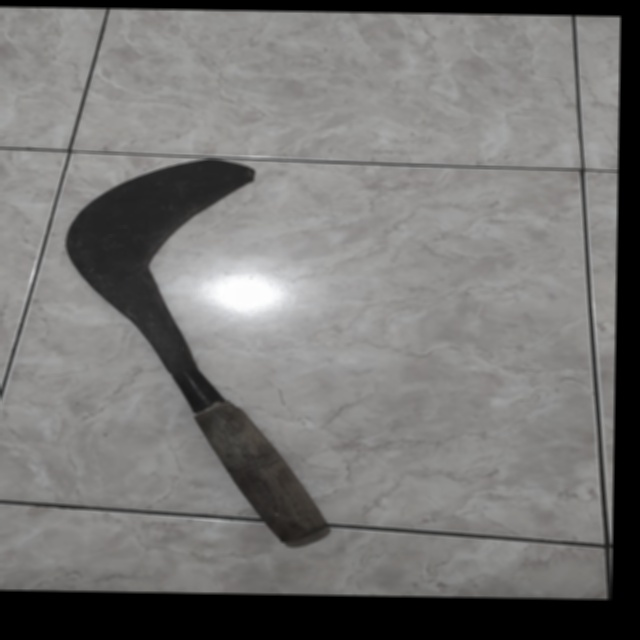Sharp-Object: (50, 131, 356, 550)
